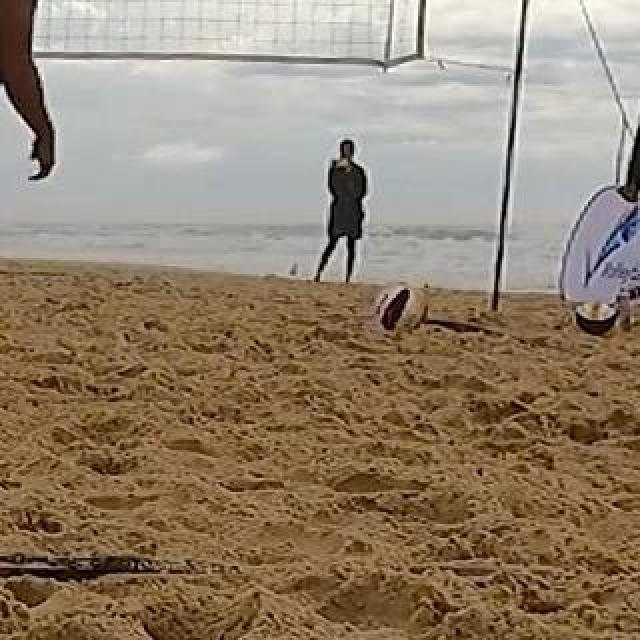volleyball: (374, 283, 426, 335)
